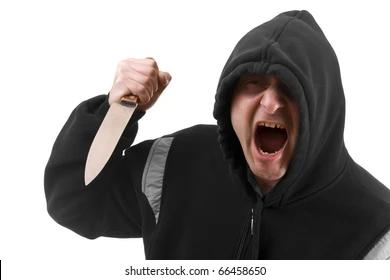Knife: (44, 9, 389, 259), (83, 98, 137, 186), (109, 56, 170, 108)
